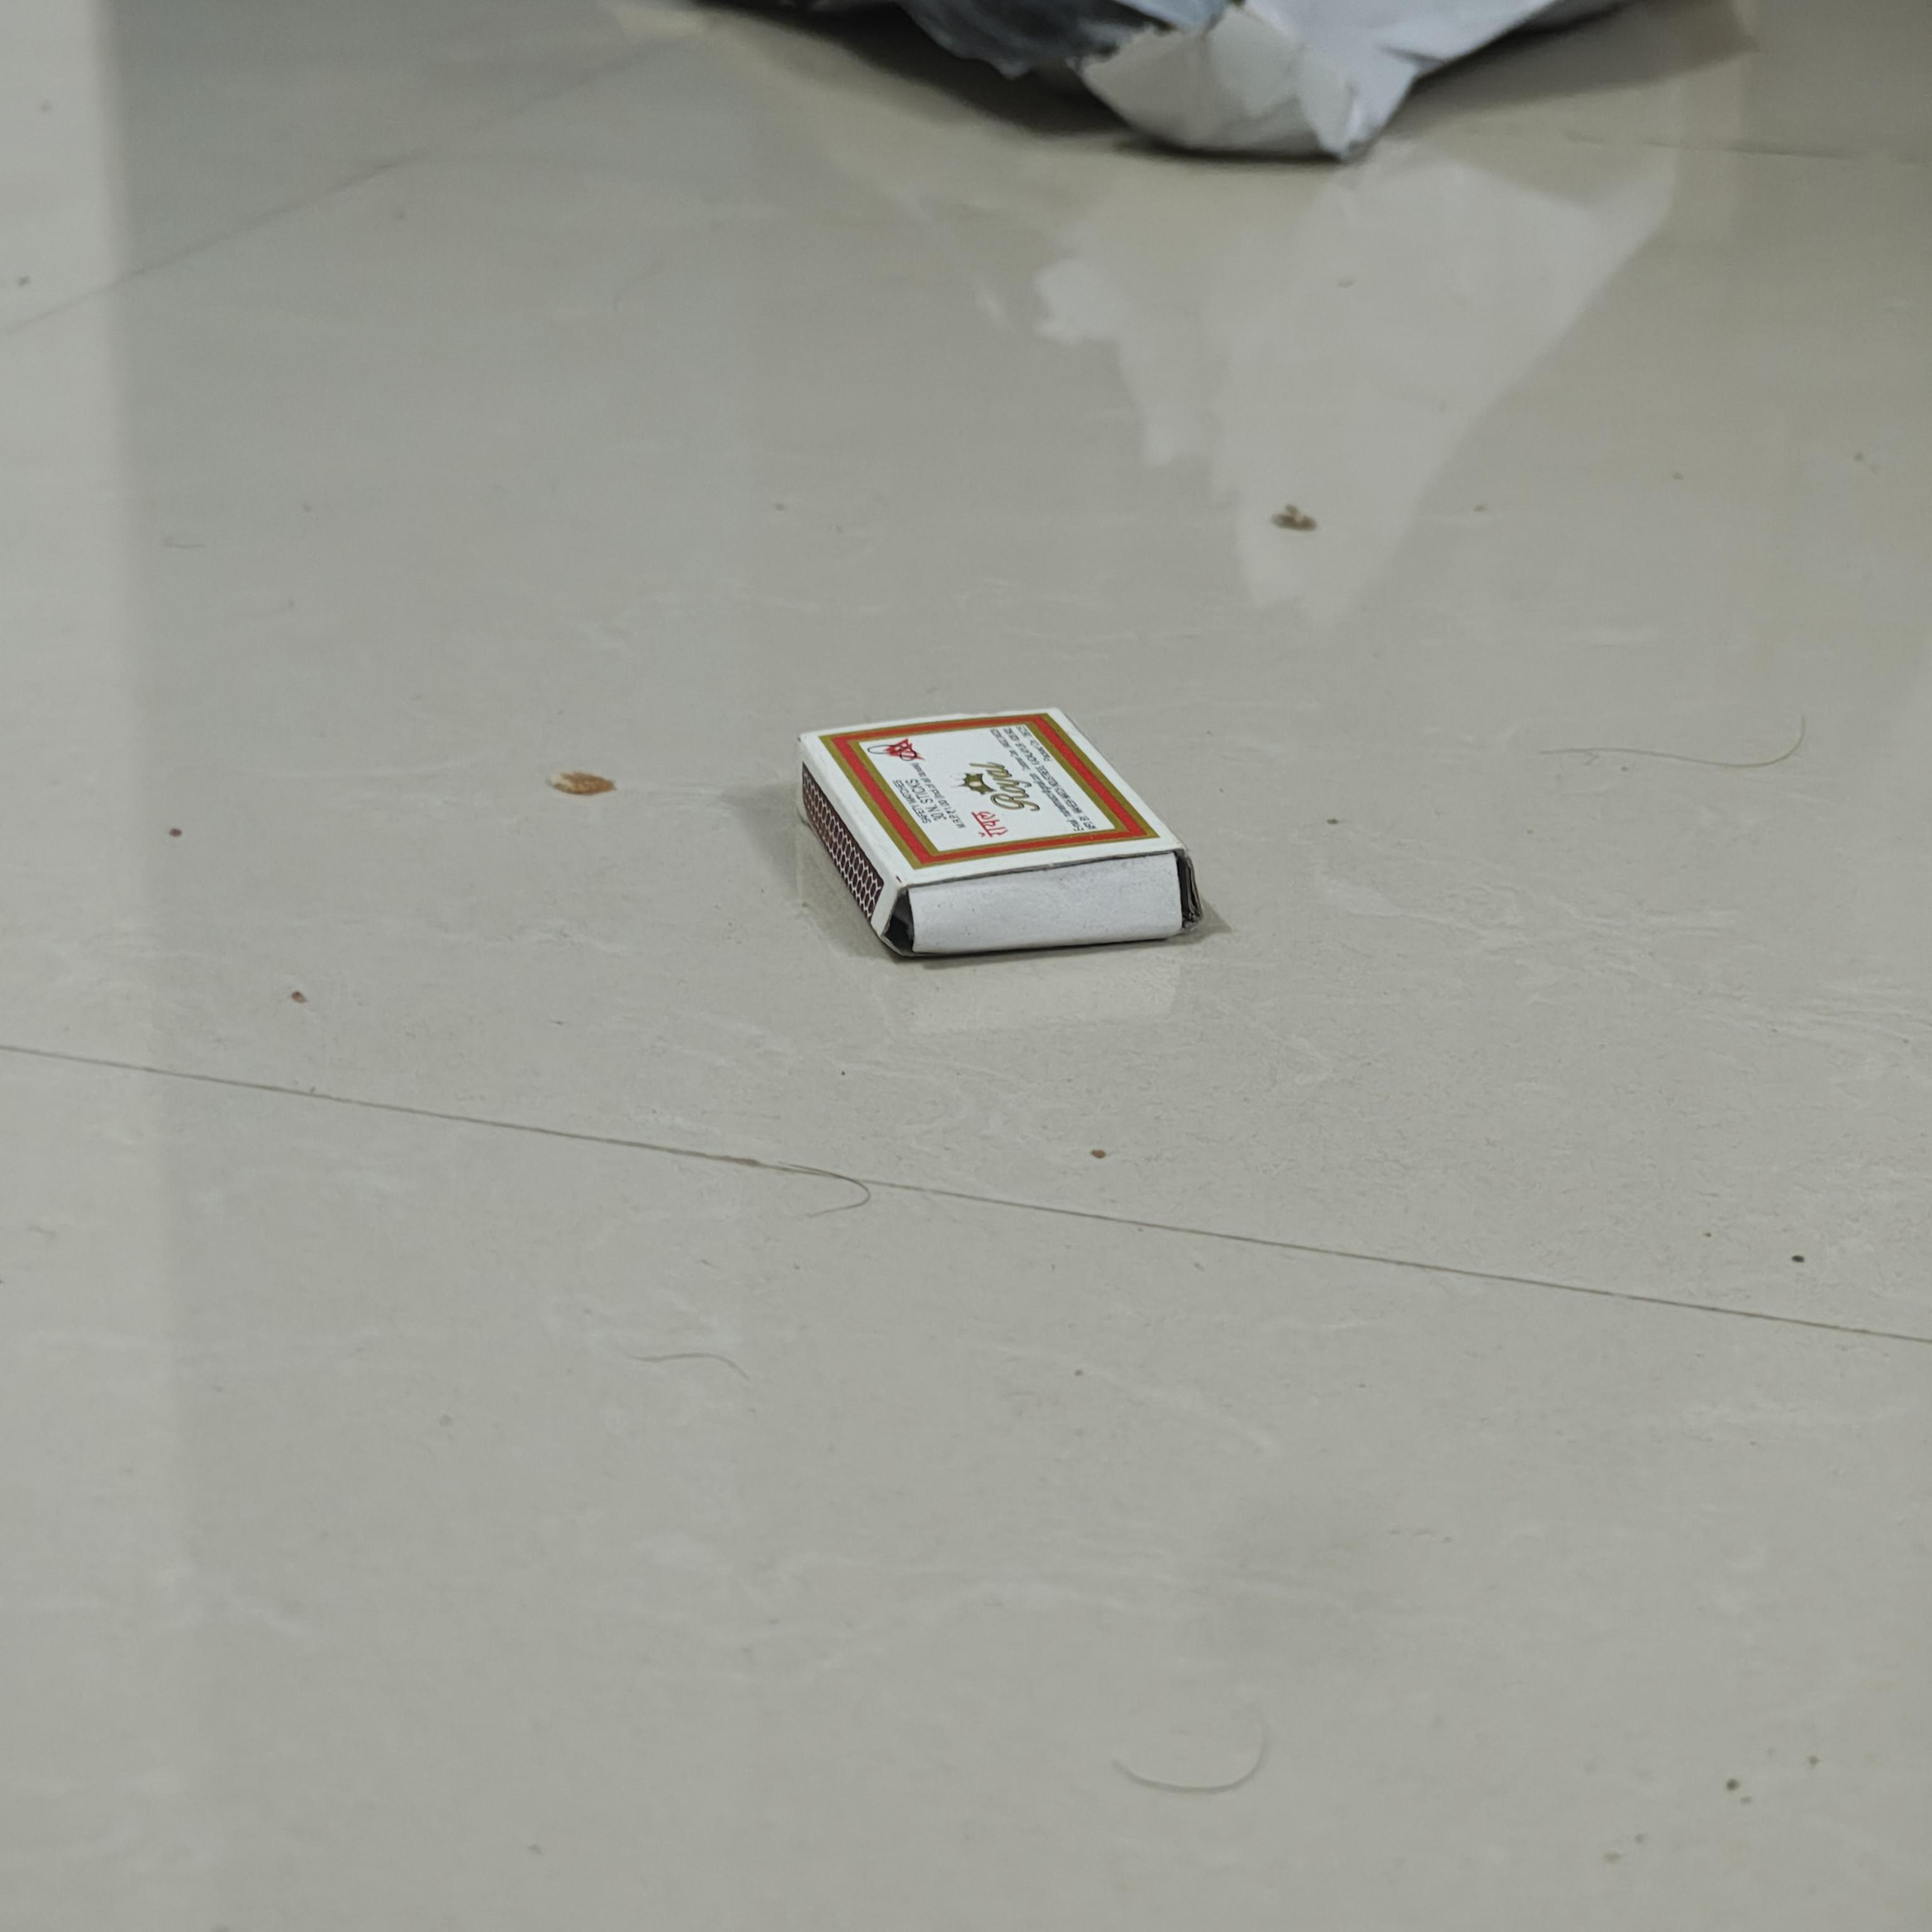garbage: (793, 708, 1194, 962)
